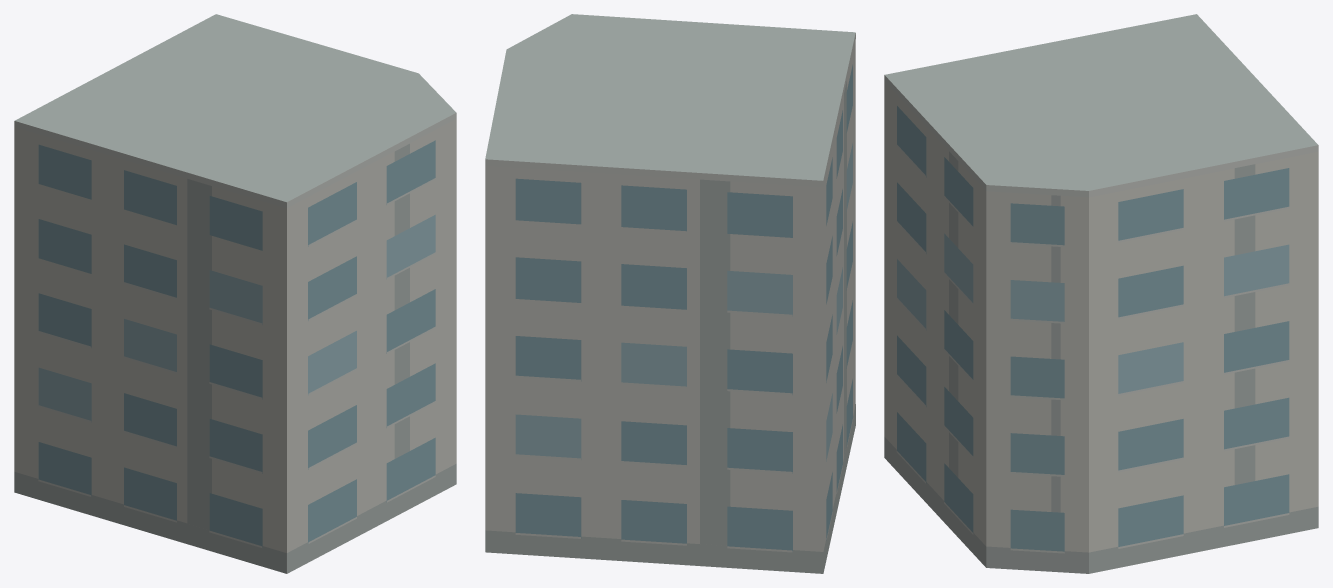
The model's file is survey-upis-32959964.glb.
3 renders of one model, left to right at view 1: azimuth 30°, elevation 25°; view 2: azimuth 150°, elevation 25°; view 3: azimuth 270°, elevation 25°, orthographic. The views are drawn at different scales.
Visible parts, largest first — view 1: survey-upis-32959964.tmp; view 2: survey-upis-32959964.tmp; view 3: survey-upis-32959964.tmp.
Boxes of the visible parts, x1,y1,x2,y2 form: survey-upis-32959964.tmp: (14, 14, 456, 573); survey-upis-32959964.tmp: (485, 14, 855, 573); survey-upis-32959964.tmp: (884, 14, 1318, 573).
Size of the model in its own units: 14.48 by 14.6 by 15.01.
